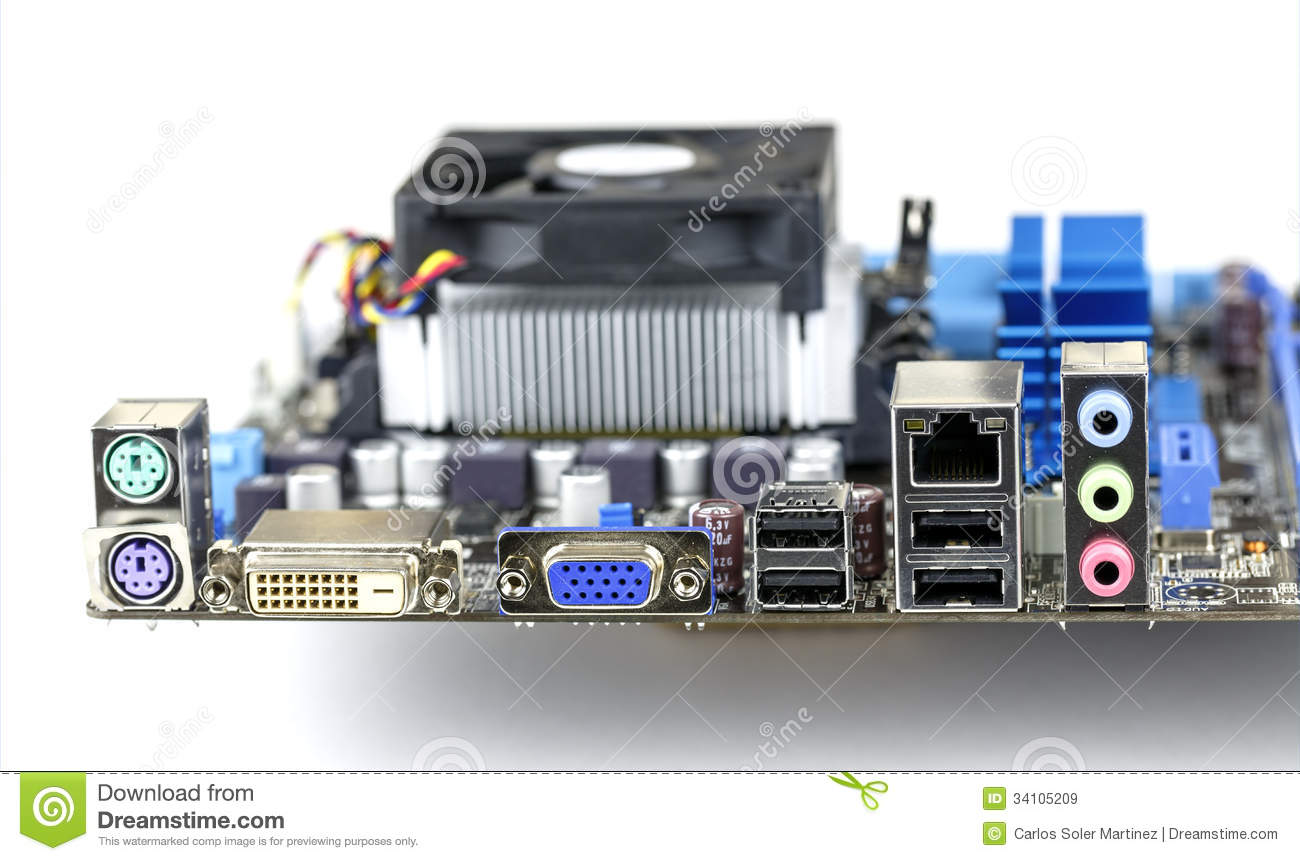Audio: (1073, 385, 1136, 454), (1072, 468, 1145, 523), (1072, 542, 1144, 597)
Ethernet: (900, 405, 1016, 486)
USB: (904, 503, 1012, 557), (909, 560, 1013, 604), (757, 566, 846, 612), (759, 511, 846, 551)
VGA: (535, 545, 670, 611)
